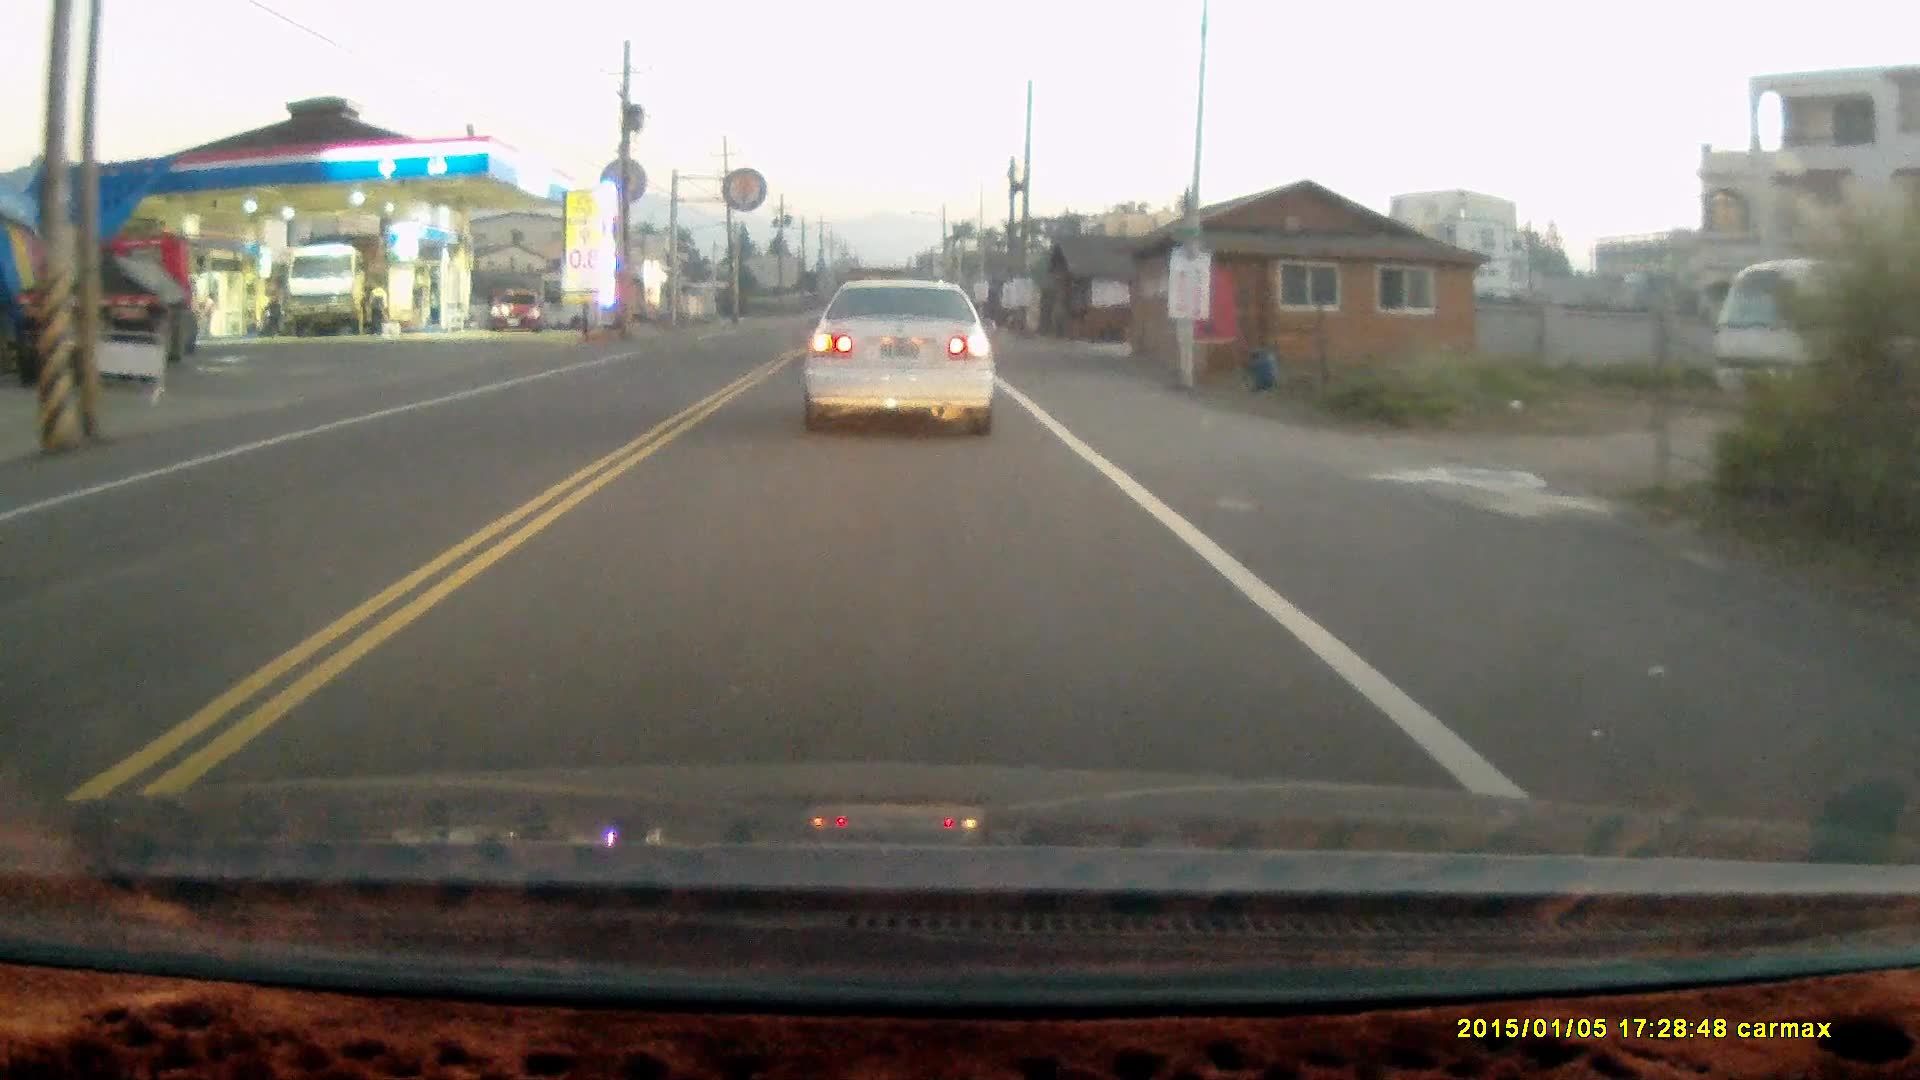pedestrian: (363, 280, 390, 332)
vehicle: (797, 276, 1003, 441), (50, 229, 202, 379), (287, 244, 389, 342), (494, 294, 544, 336)
